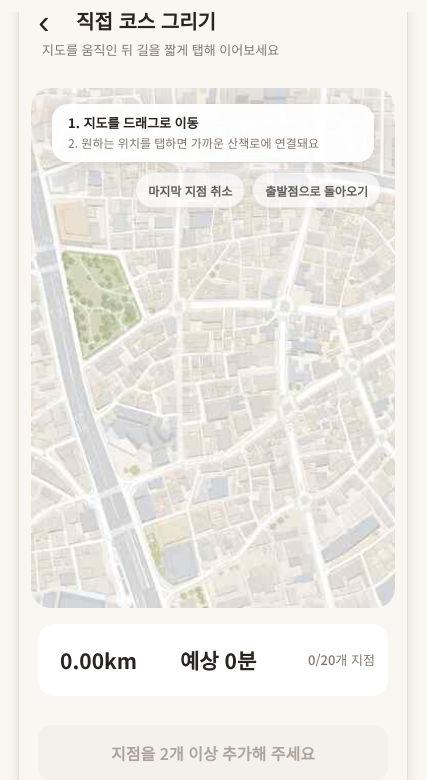
Test: DrawCoursePage › shows a rejection notice and automatically keeps the snapped walkway point
Click the button named "지도에 지점 추가".
click(213, 348)  # box left=31, top=88, right=395, bottom=608
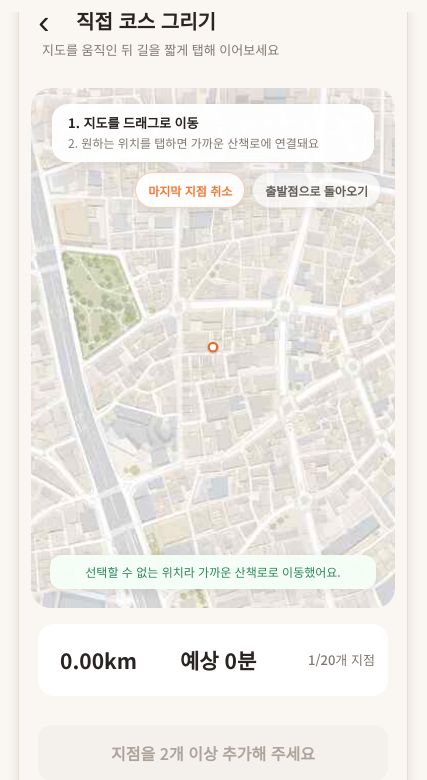
Check: the text "선택할 수 없는 위치라 가까운 산책로로 이동했어요." is shown, box left=50, top=555, right=376, bottom=589
Check: the text "1/20개 지점" is shown, box left=308, top=650, right=375, bottom=670
